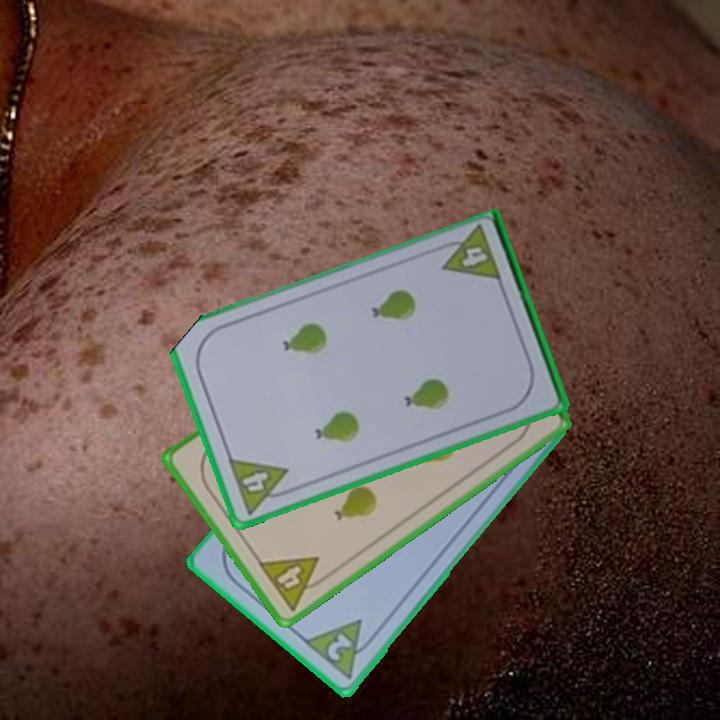2p: (323, 630, 356, 665)
4p: (254, 553, 334, 615), (224, 455, 298, 518), (433, 223, 505, 286)
